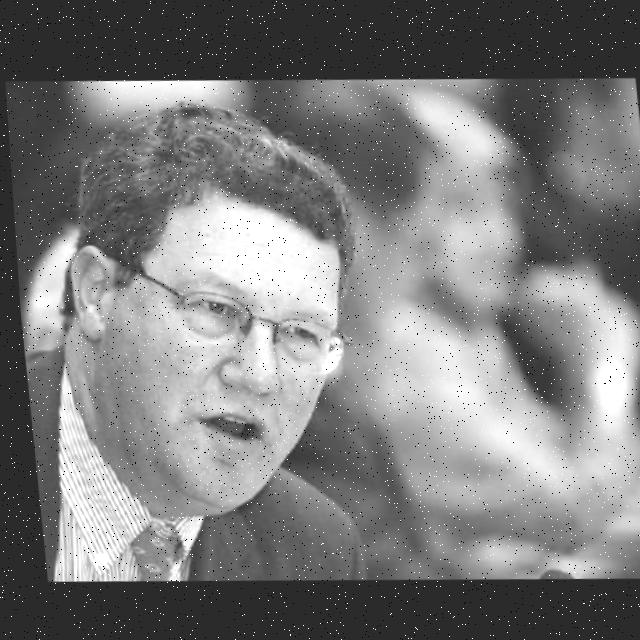face: (45, 224, 380, 522)
